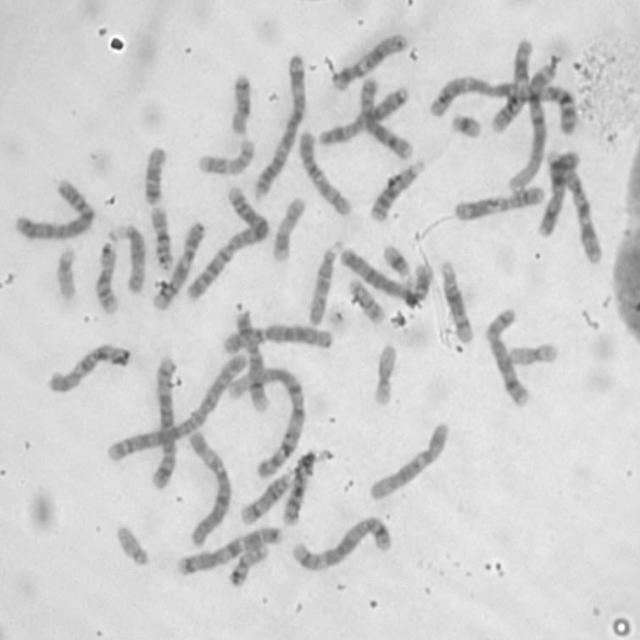A1: (225, 364, 307, 480), (505, 80, 579, 192)
A2: (104, 349, 251, 462), (182, 186, 270, 300)
A3: (252, 54, 307, 200), (426, 63, 557, 119)
B4: (338, 244, 434, 305), (13, 176, 98, 242)
B5: (290, 515, 396, 575), (147, 355, 179, 493)
C10: (295, 129, 355, 217), (45, 340, 132, 397)
C11: (487, 38, 535, 135), (452, 185, 545, 223)
C12: (366, 420, 453, 502), (329, 32, 411, 93)
C6: (187, 431, 233, 547), (221, 323, 334, 356)
C7: (543, 149, 603, 265), (175, 525, 284, 579)
C8: (483, 307, 532, 408), (358, 76, 414, 160)
C9: (152, 221, 205, 312), (235, 311, 273, 414)
D13: (368, 158, 432, 224), (282, 449, 316, 528)
D14: (237, 466, 295, 529), (439, 259, 476, 344)
D15: (306, 237, 345, 328), (105, 222, 148, 296)
E16: (93, 239, 121, 317), (149, 204, 176, 272)
E17: (196, 135, 255, 177), (271, 196, 305, 264)
E18: (143, 146, 166, 207), (230, 75, 252, 134)
F19: (372, 345, 399, 406), (508, 342, 558, 367)
F20: (348, 276, 388, 326), (229, 542, 270, 586)
G21: (380, 241, 414, 288), (451, 114, 482, 139)
G22: (114, 523, 150, 566), (55, 242, 79, 303)
X: (317, 85, 409, 146), (536, 148, 582, 240)
